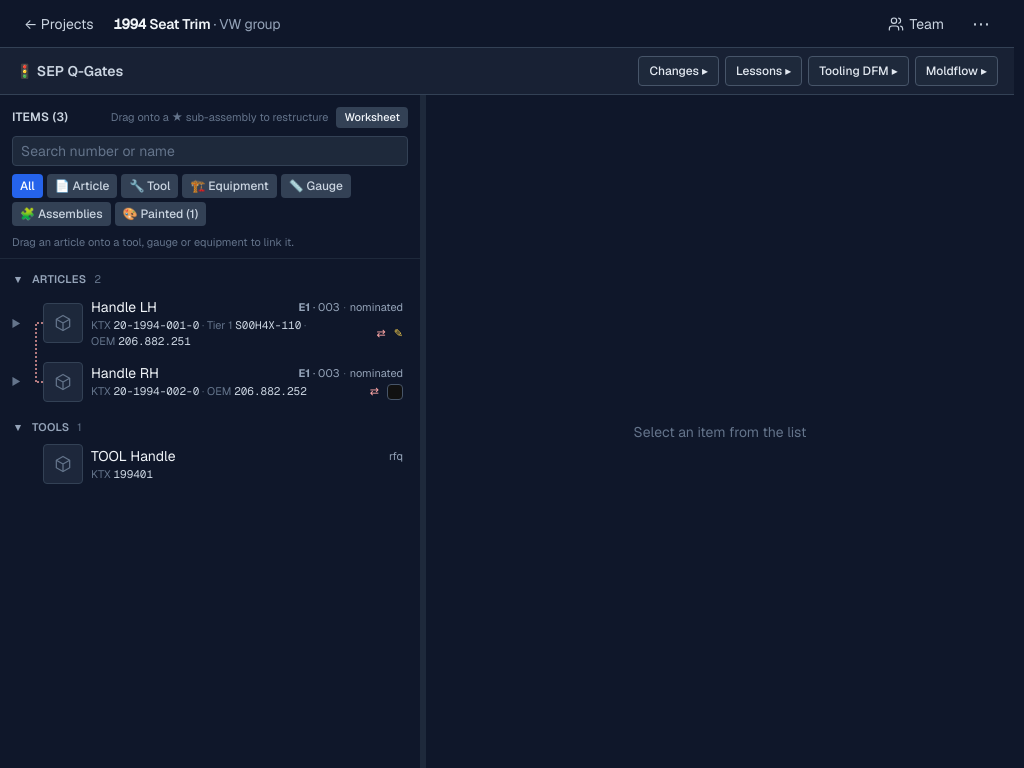
Test: grouped slim item rows › collapses a group from its header
What coordinates should you click on to do the following:
click the button with test id "group-toggle-tool"
I would click on:
 (51, 426)
Its box is [8,414,412,439].
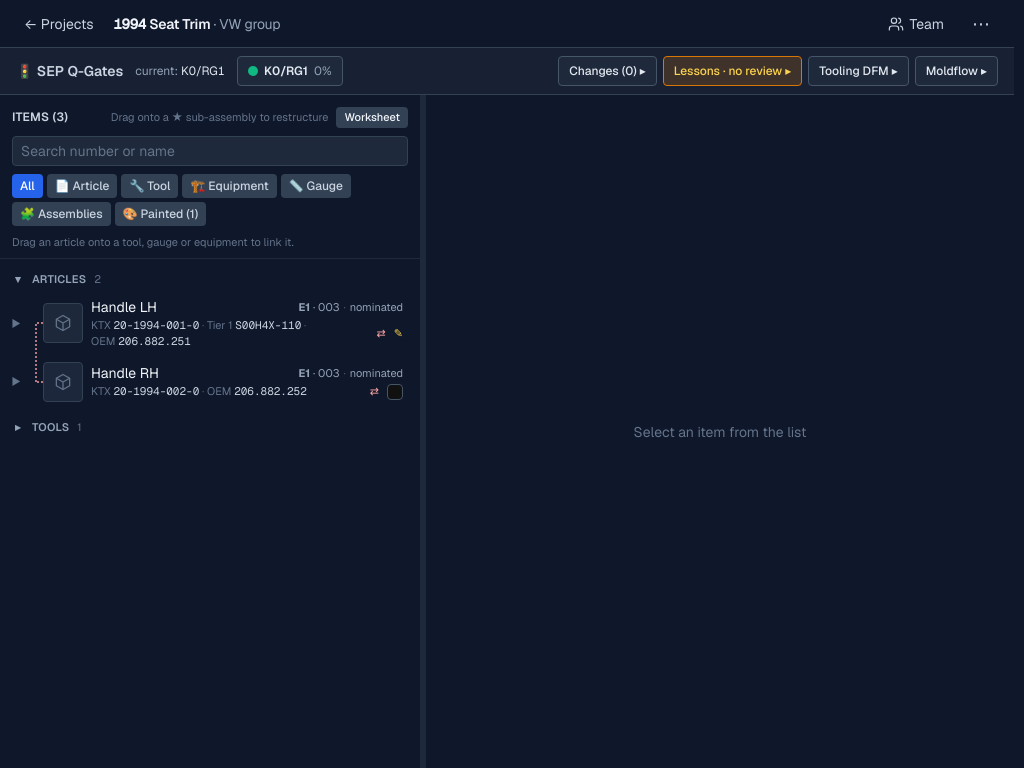
Expected: the button with test id "group-toggle-tool" is collapsed, [8,414,412,439]
Expected: the button with test id "item-row-30" is gone
